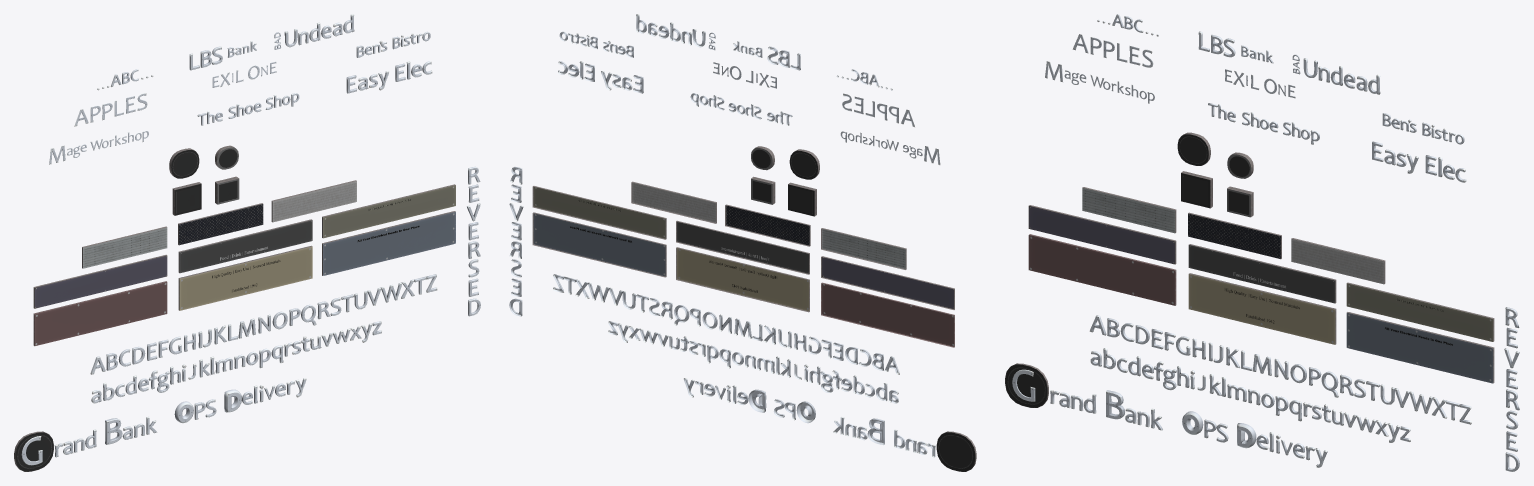
File: SignsCoustom.fbx
3 views of the same model, side by side, from view 1: azimuth 30°, elevation 25°; view 2: azimuth 150°, elevation 25°; view 3: azimuth 330°, elevation 25° (orthographic). The views are drawn at different scales.
Visible parts, largest first — view 1: Plane.035, Plane.036, Plane.038, Plane.033, Plane.032, Plane.034, Plane.037, Plane.029, Plane.030, Plane.031, Text.004, Text.003 (+10 smaller); view 2: Plane.038, Plane.035, Plane.036, Plane.034, Plane.033, Plane.032, Plane.037, Plane.031, Plane.030, Plane.029, Text.004, Text.003 (+10 smaller); view 3: Plane.038, Plane.035, Plane.036, Plane.033, Plane.032, Plane.034, Plane.037, Plane.029, Plane.031, Plane.030, Text.004, Text.003 (+11 smaller).
Boxes of the visible parts, <box> form: Plane.035: <box>33,281,167,346</box>; Plane.036: <box>178,245,312,310</box>; Plane.038: <box>322,211,455,275</box>; Plane.033: <box>178,219,312,273</box>; Plane.032: <box>33,254,167,308</box>; Plane.034: <box>322,184,455,238</box>; Plane.037: <box>14,416,157,471</box>; Plane.029: <box>82,226,167,268</box>; Plane.030: <box>178,203,263,245</box>; Plane.031: <box>271,180,356,222</box>; Text.004: <box>174,378,306,423</box>; Text.003: <box>467,166,480,316</box>; Plane.038: <box>532,212,666,277</box>; Plane.035: <box>821,282,954,347</box>; Plane.036: <box>676,247,809,312</box>; Plane.034: <box>532,186,666,239</box>; Plane.033: <box>676,220,809,274</box>; Plane.032: <box>821,256,954,309</box>; Plane.037: <box>833,416,976,471</box>; Plane.031: <box>631,181,716,223</box>; Plane.030: <box>725,204,810,246</box>; Plane.029: <box>821,228,906,269</box>; Text.004: <box>684,378,815,423</box>; Text.003: <box>509,167,523,316</box>; Plane.038: <box>1346,312,1494,383</box>; Plane.035: <box>1028,234,1176,305</box>; Plane.036: <box>1188,273,1336,344</box>; Plane.033: <box>1188,244,1336,303</box>; Plane.032: <box>1028,205,1176,264</box>; Plane.034: <box>1346,282,1494,341</box>; Plane.037: <box>1005,363,1162,430</box>; Plane.029: <box>1082,187,1176,233</box>; Plane.031: <box>1291,238,1385,284</box>; Plane.030: <box>1188,212,1281,259</box>; Text.004: <box>1182,411,1327,467</box>; Text.003: <box>1504,307,1519,471</box>.
Bounding box in the file's own units: 1897 × 1472 × 23.06.
